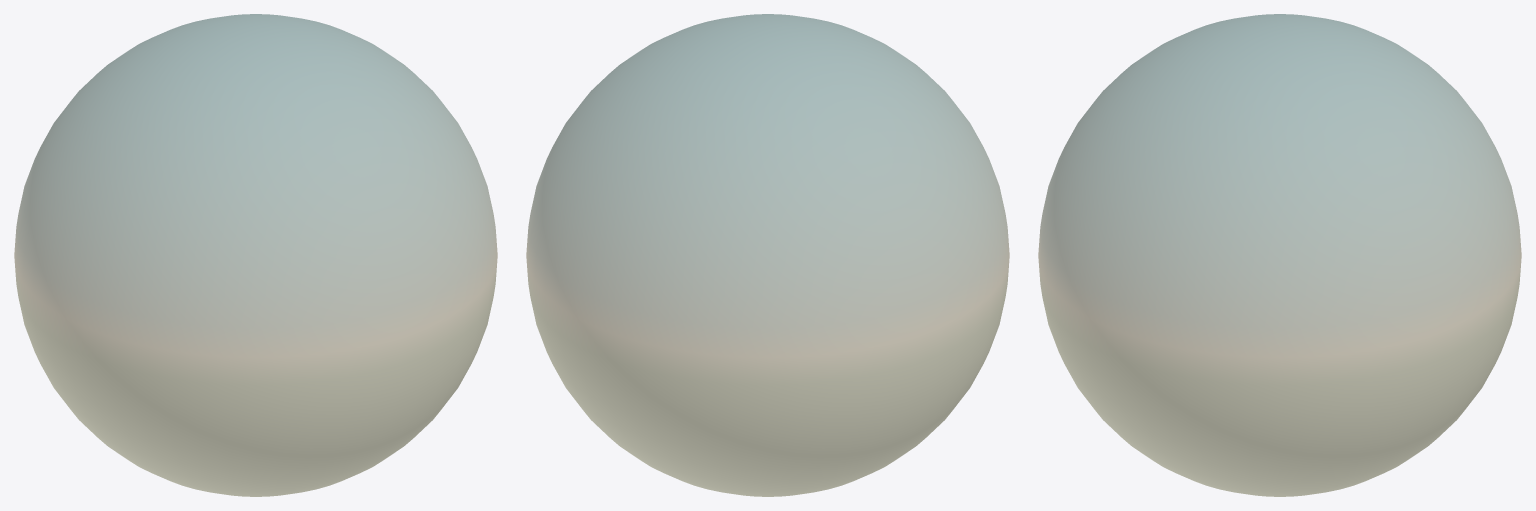
The model's file is NeckGuardian-Lakeside-v5.glb.
3 renders of one model, left to right at view 1: azimuth 30°, elevation 25°; view 2: azimuth 150°, elevation 25°; view 3: azimuth 270°, elevation 25°, orthographic.
Visible parts, largest first — view 1: SoftGradientSky; view 2: SoftGradientSky; view 3: SoftGradientSky.
Part boxes in pixels (<box>): SoftGradientSky: <box>14,14,497,496</box>; SoftGradientSky: <box>526,14,1009,496</box>; SoftGradientSky: <box>1038,14,1521,496</box>.
Size of the model in its own units: 260 by 260 by 260.
